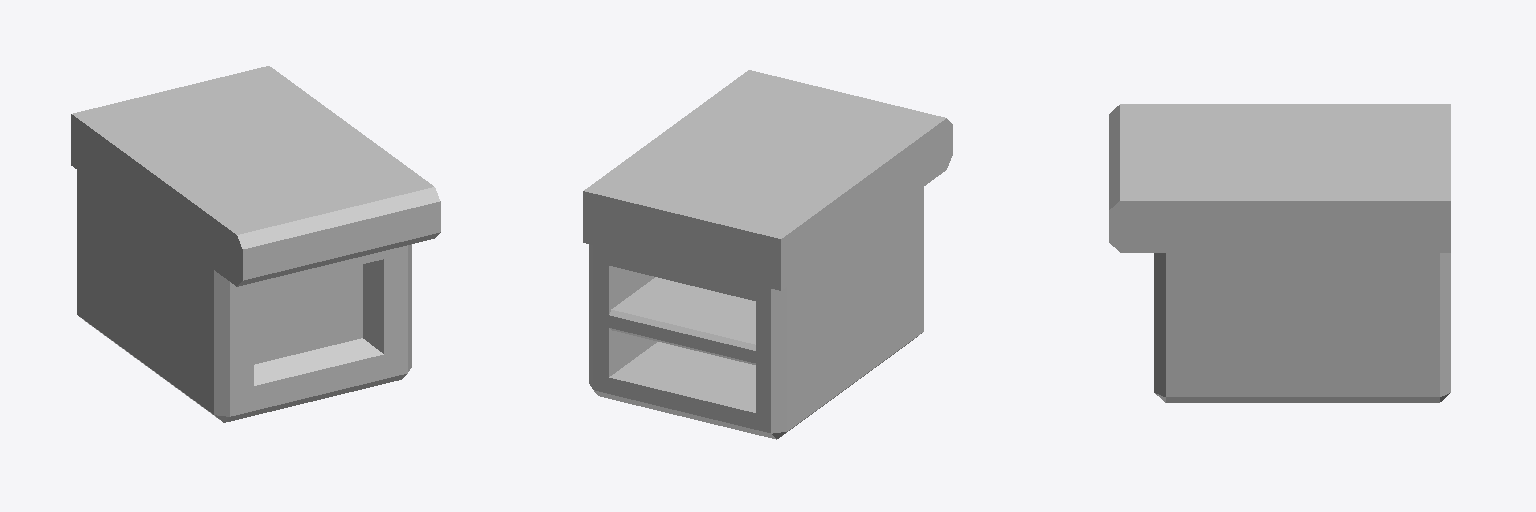
Rendered from countertop_straight_A_short.obj.
The picture shows the model from 3 angles: view 1: azimuth 30°, elevation 25°; view 2: azimuth 150°, elevation 25°; view 3: azimuth 270°, elevation 25°; orthographic projection.
Visible parts, largest first — view 1: countertop_straight_A_short; view 2: countertop_straight_A_short; view 3: countertop_straight_A_short.
Boxes of the visible parts, box(x1,y1,x2,y2) form: countertop_straight_A_short: box(71, 66, 440, 422); countertop_straight_A_short: box(583, 70, 952, 439); countertop_straight_A_short: box(1109, 104, 1450, 402).
Bounding box in the file's own units: 1 × 1 × 1.5.